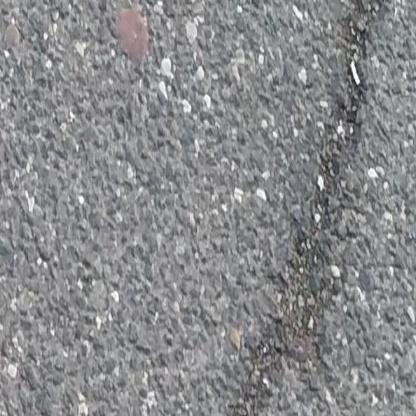Cracks: (217, 0, 398, 416)
